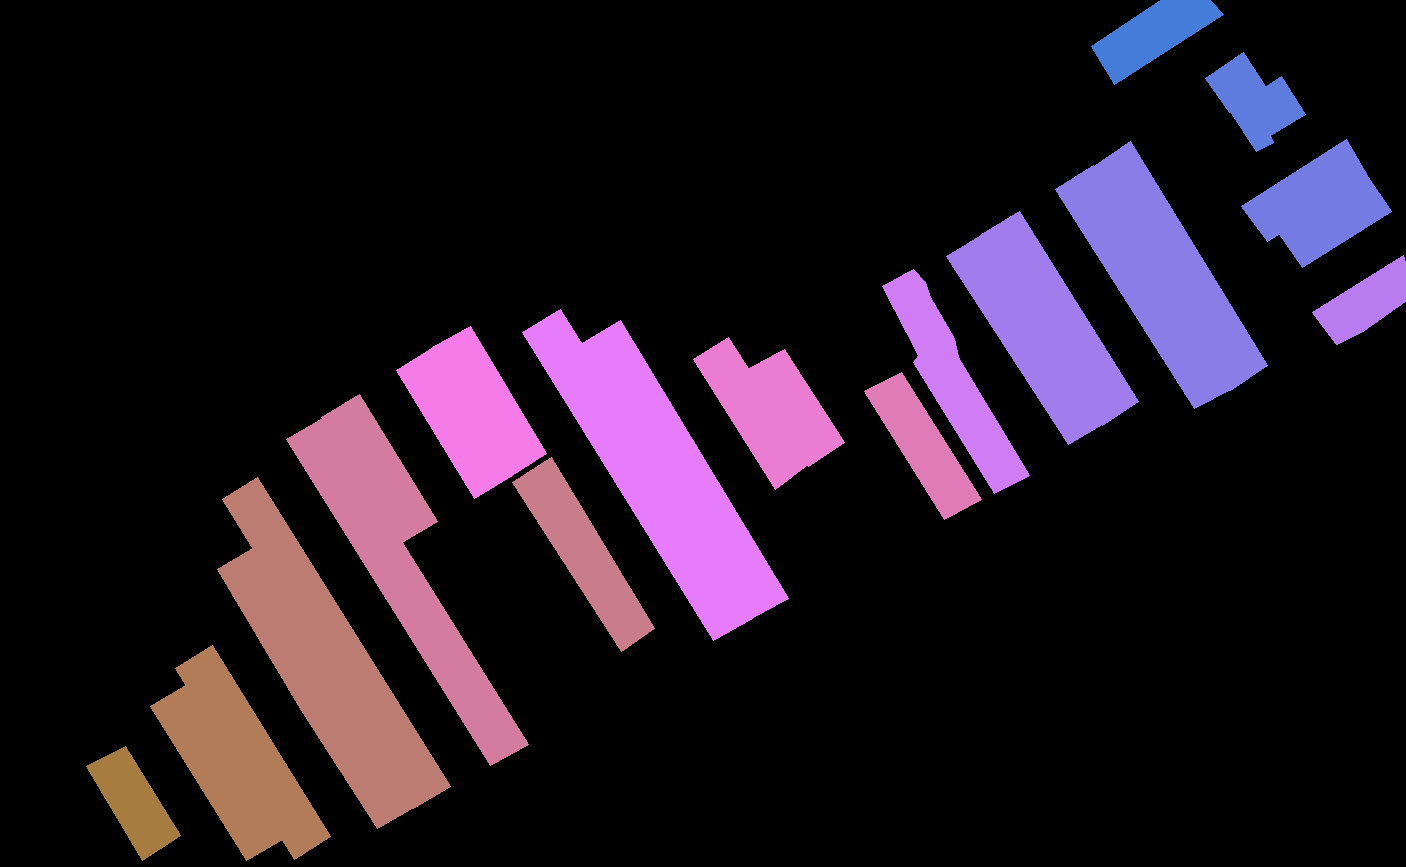parkingspot: (286, 417, 528, 765), (522, 309, 752, 640), (222, 477, 450, 808), (580, 320, 788, 618), (217, 547, 415, 828), (1092, 141, 1267, 390), (1054, 165, 1232, 408), (981, 211, 1138, 425), (946, 233, 1105, 444), (175, 645, 330, 859), (882, 269, 1029, 493), (512, 457, 654, 651), (150, 684, 282, 860), (693, 337, 809, 489), (396, 347, 512, 498), (864, 372, 981, 519), (432, 326, 546, 476), (321, 394, 437, 543), (1241, 139, 1368, 241), (747, 349, 844, 466), (1091, 0, 1223, 84), (86, 746, 180, 860), (1277, 174, 1391, 267), (1312, 255, 1405, 344), (1229, 76, 1305, 151), (1205, 52, 1267, 112)
